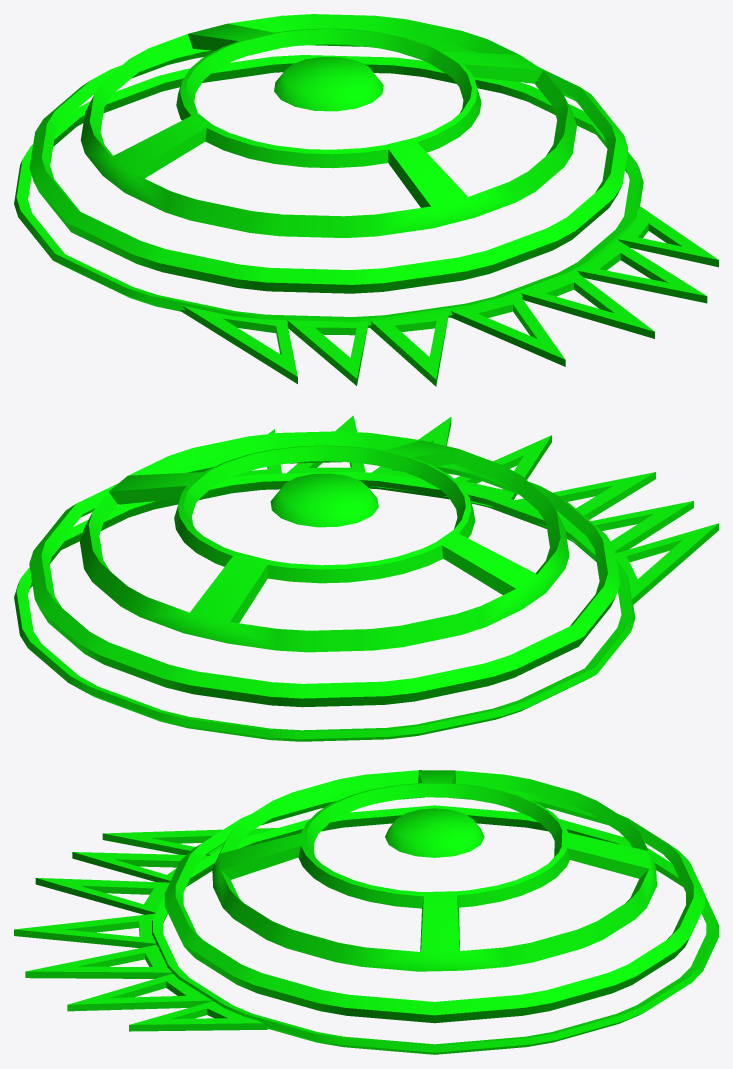
The model's file is Shield1.fbx.
3 views of the same model, one above another, from view 1: azimuth 30°, elevation 25°; view 2: azimuth 150°, elevation 25°; view 3: azimuth 270°, elevation 25° (orthographic). The views are drawn at different scales.
Visible parts, largest first — view 1: pPlane3; view 2: pPlane3; view 3: pPlane3.
Part boxes in pixels (<box>): pPlane3: <box>14,14,718,386</box>; pPlane3: <box>14,415,718,741</box>; pPlane3: <box>14,770,718,1054</box>.
Size of the model in its own units: 41.1 by 9 by 50.46.
